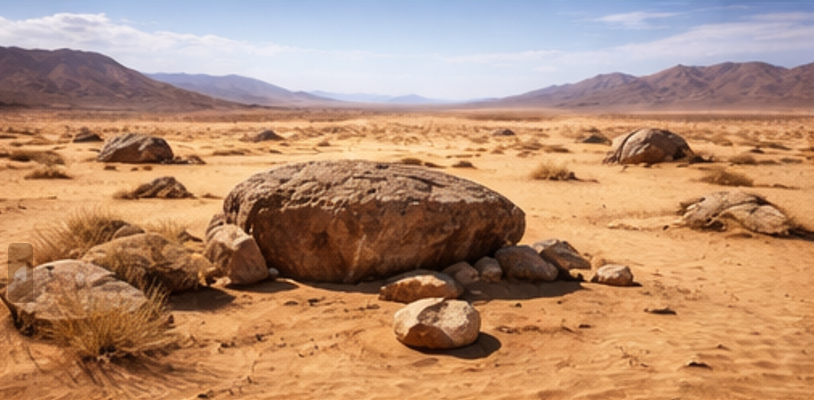rocks: (223, 160, 523, 281), (5, 259, 145, 331), (82, 231, 210, 291), (682, 190, 790, 233), (394, 300, 477, 348), (203, 224, 269, 283), (603, 128, 691, 162), (379, 271, 463, 301), (96, 133, 172, 162), (494, 246, 557, 279), (531, 239, 590, 270), (122, 175, 194, 198), (441, 260, 478, 284), (590, 264, 632, 284), (472, 255, 502, 281), (239, 128, 283, 141)
